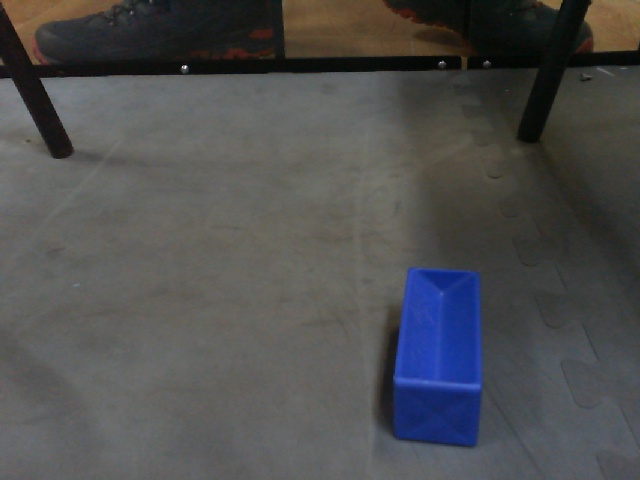BlueSample: (386, 263, 492, 454)
